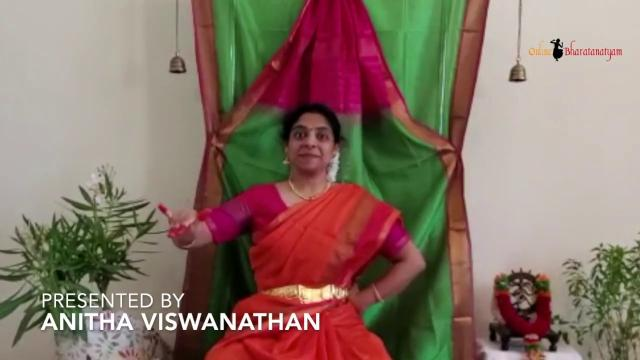mrighasheesh: (146, 189, 218, 259)
